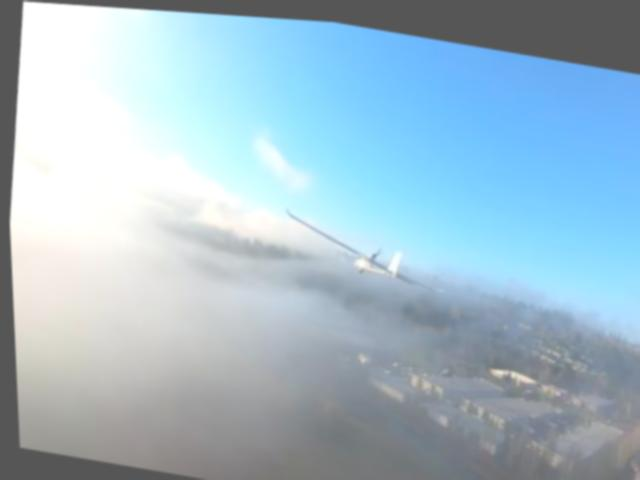uav: (268, 194, 459, 303)
